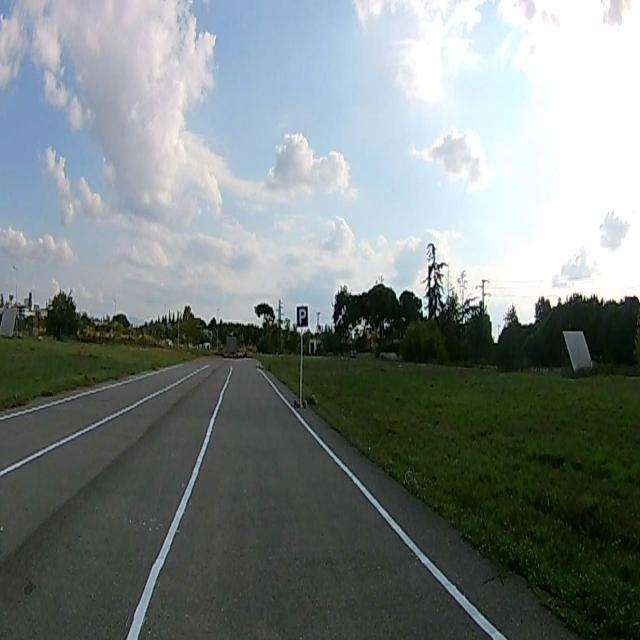park: (296, 306, 308, 328)
